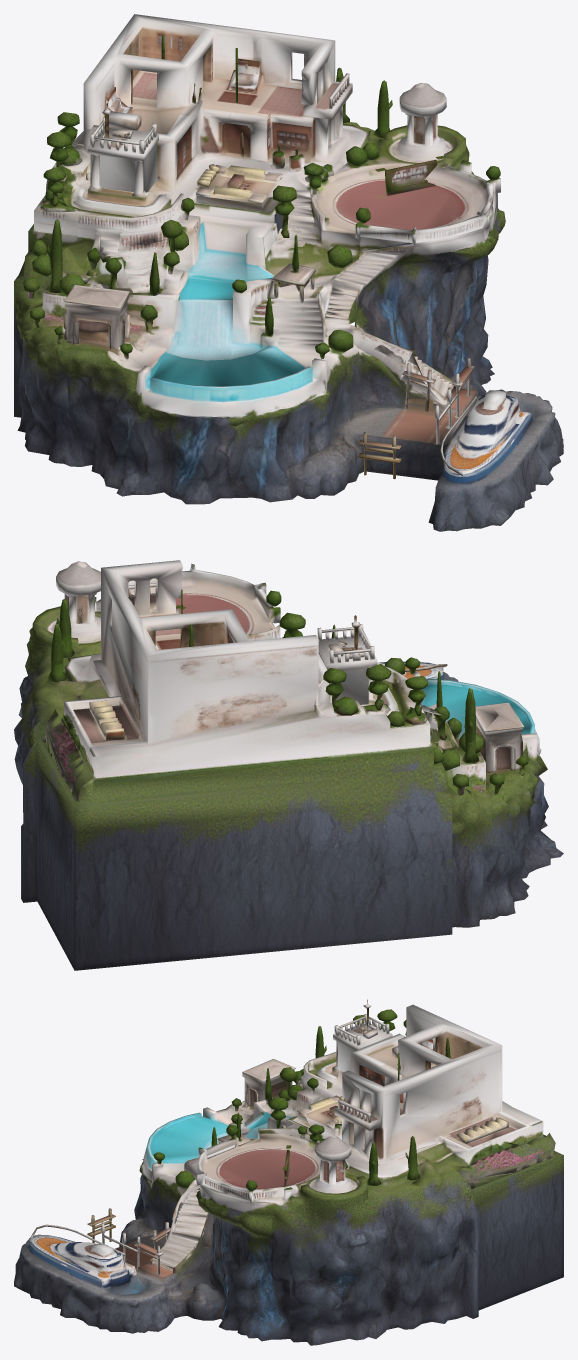
The model's file is tier6.glb.
3 views of the same model, one above another, from view 1: azimuth 30°, elevation 25°; view 2: azimuth 150°, elevation 25°; view 3: azimuth 270°, elevation 25° (orthographic). The views are drawn at different scales.
Parts seen in each view (by area): view 1: tripo_node_1f45e19a-0725-4dfa-80cb-a3d45f6496e8; view 2: tripo_node_1f45e19a-0725-4dfa-80cb-a3d45f6496e8; view 3: tripo_node_1f45e19a-0725-4dfa-80cb-a3d45f6496e8.
Boxes of the visible parts, x1,y1,x2,y2 form: tripo_node_1f45e19a-0725-4dfa-80cb-a3d45f6496e8: (14, 14, 563, 531); tripo_node_1f45e19a-0725-4dfa-80cb-a3d45f6496e8: (14, 560, 563, 970); tripo_node_1f45e19a-0725-4dfa-80cb-a3d45f6496e8: (14, 999, 563, 1345).
Bounding box in the file's own units: 0.9528 × 0.5879 × 1.28.
1 material, 1 textured.
